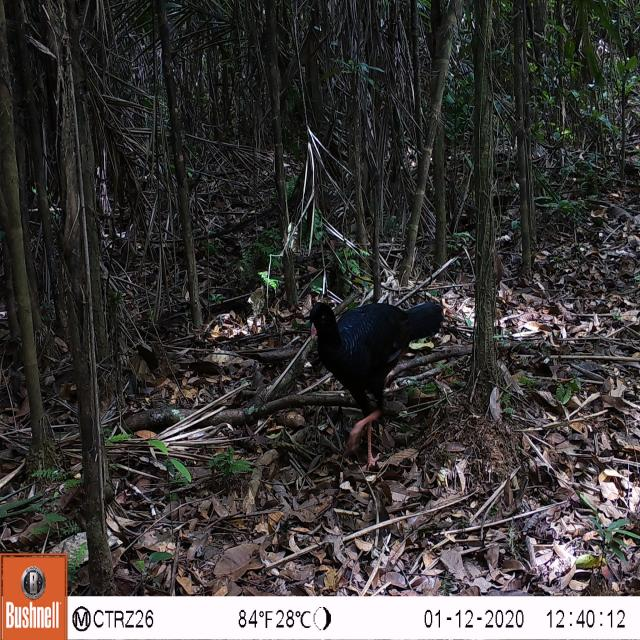Salvins Curassow: (300, 276, 451, 478)
